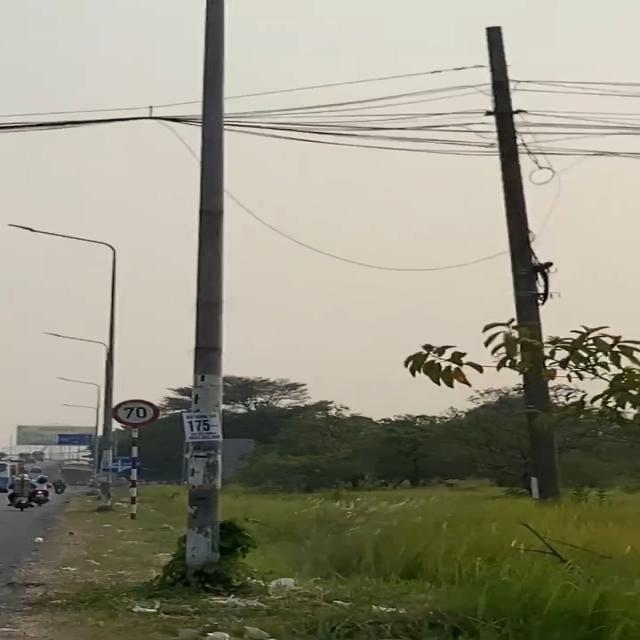127-toc-do-toi-da-70: (111, 398, 160, 426)
